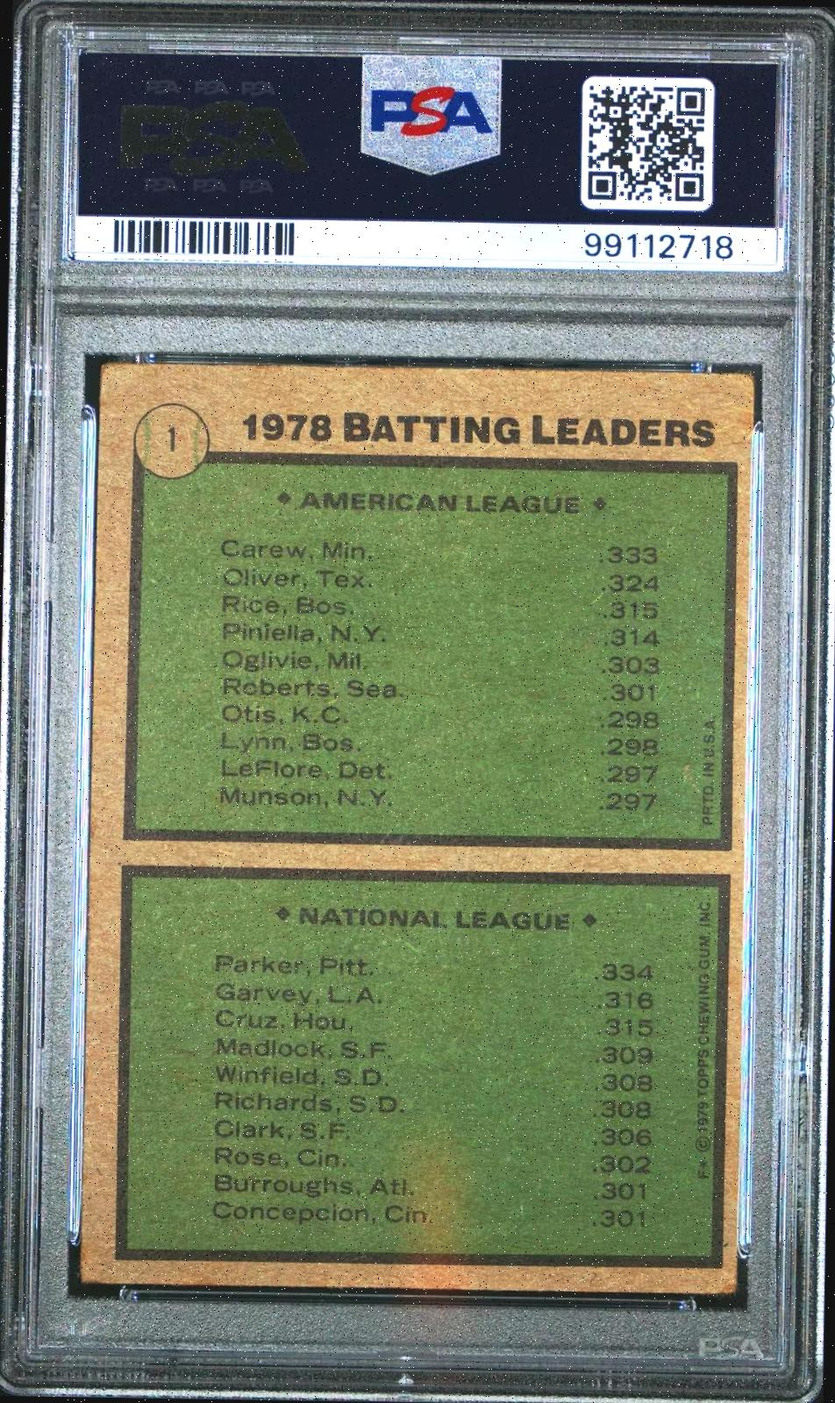card-2UtV: (79, 360, 756, 1297)
